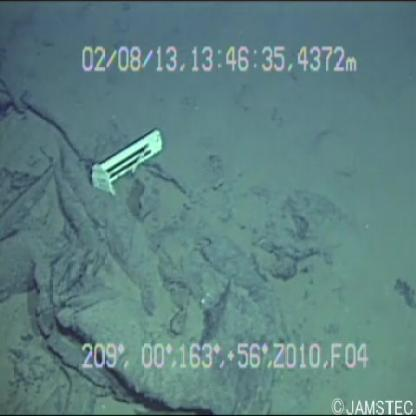Rác: (83, 119, 166, 195)
